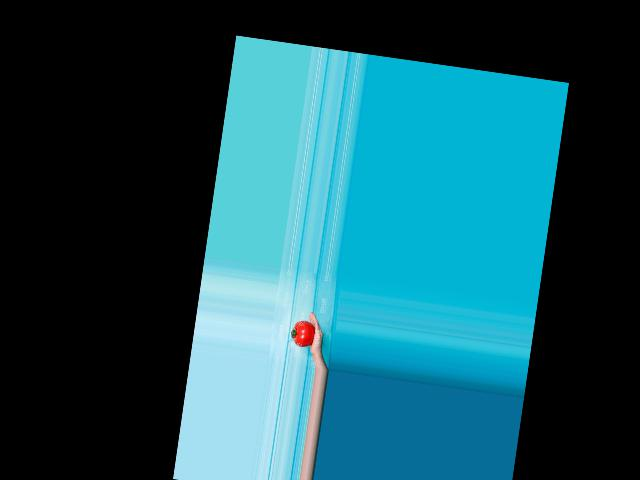tomato: (290, 318, 316, 347)
